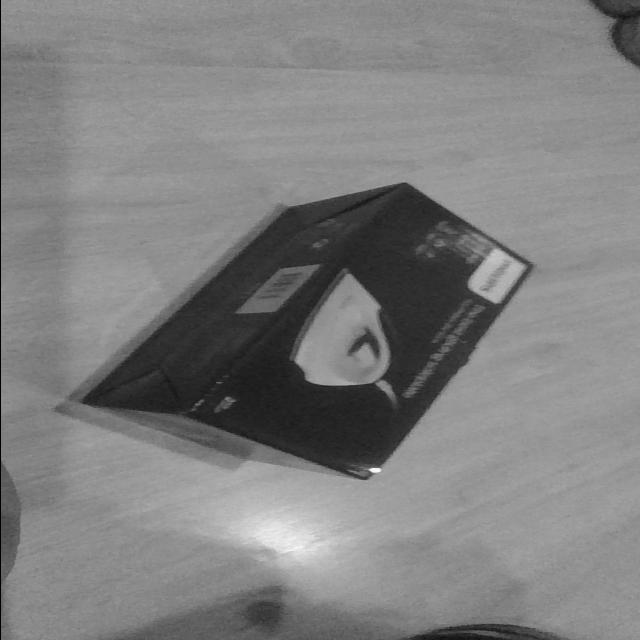IRON: (70, 180, 538, 482)
